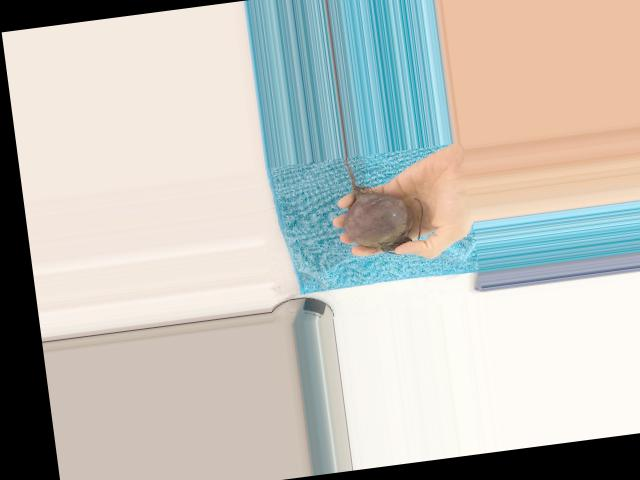beet: (334, 147, 427, 260)
